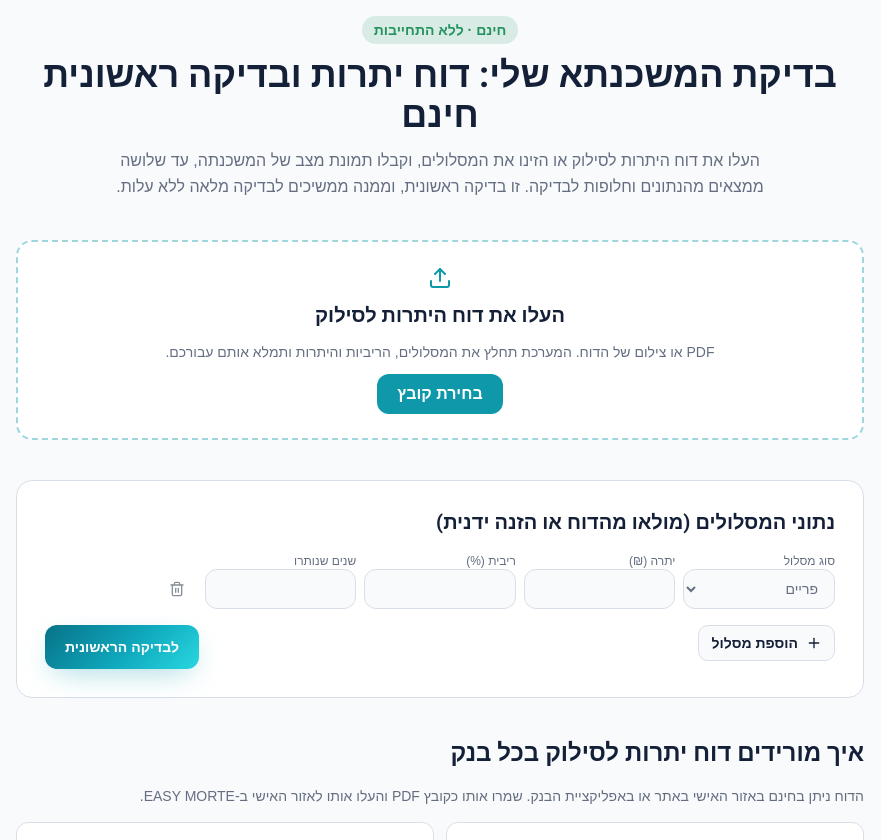
BalanceCheckPage (#52) › with no data: no ₪0 saving, missing fields named, a free completion CTA
This screenshot has width=881, height=840.
Expected: the text "בחירת קובץ" is shown, [377, 374, 503, 414]
Click the button "לבדיקה הראשונית" at coordinates (122, 647), box [45, 625, 199, 669]
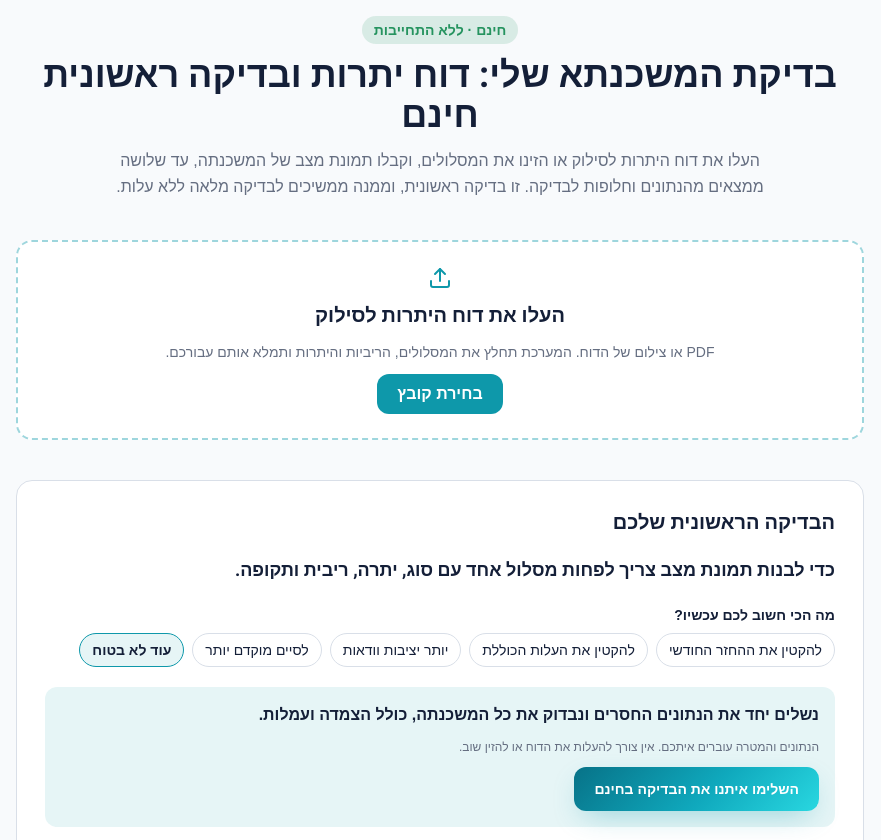
Now the button "השלימו איתנו את הבדיקה בחינם" is shown, box [574, 767, 819, 811]
